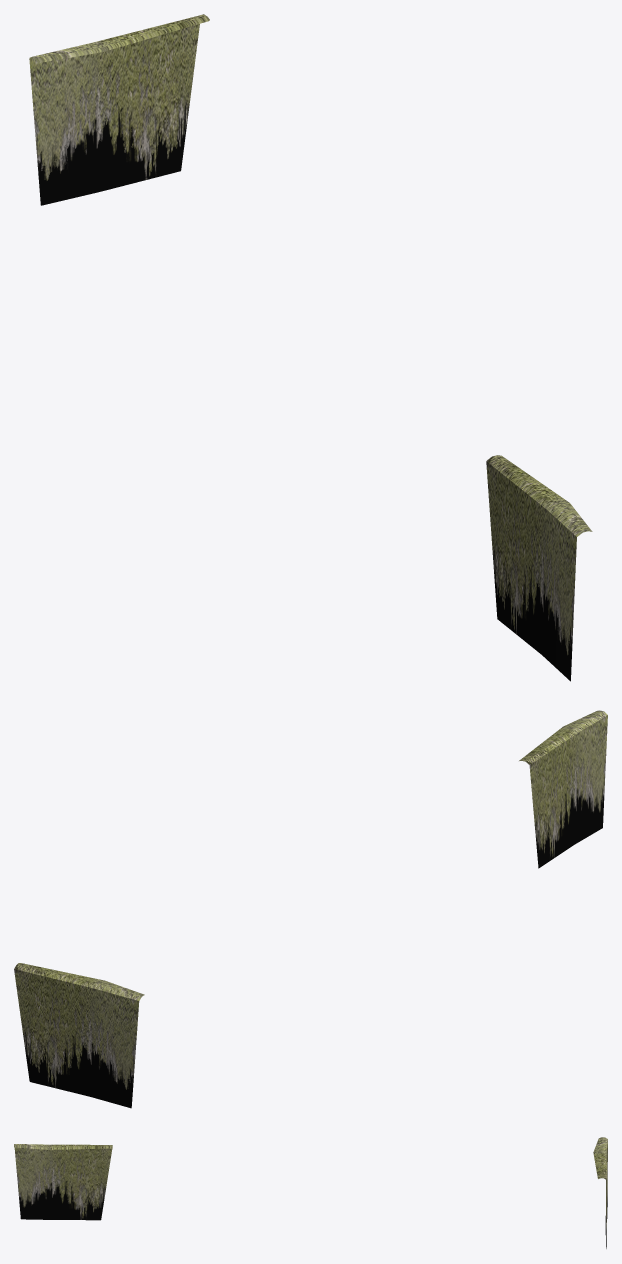
The model's file is SM_Chateaux_02_02.fbx.
The picture shows the model from 3 angles, top to bottom: view 1: azimuth 30°, elevation 25°; view 2: azimuth 150°, elevation 25°; view 3: azimuth 270°, elevation 25°; orthographic projection. The views are drawn at different scales.
Visible parts, largest first — view 1: SM_Chateaux_02_02; view 2: SM_Chateaux_02_02; view 3: SM_Chateaux_02_02.
Part boxes in pixels (x1=…): SM_Chateaux_02_02: x1=29, y1=14, x2=592, y2=681; SM_Chateaux_02_02: x1=14, y1=710, x2=607, y2=1108; SM_Chateaux_02_02: x1=14, y1=1137, x2=607, y2=1248.
Bounding box in the file's own units: 650 × 536 × 3073.
